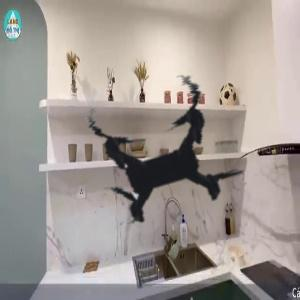drone: (30, 28, 293, 291)
